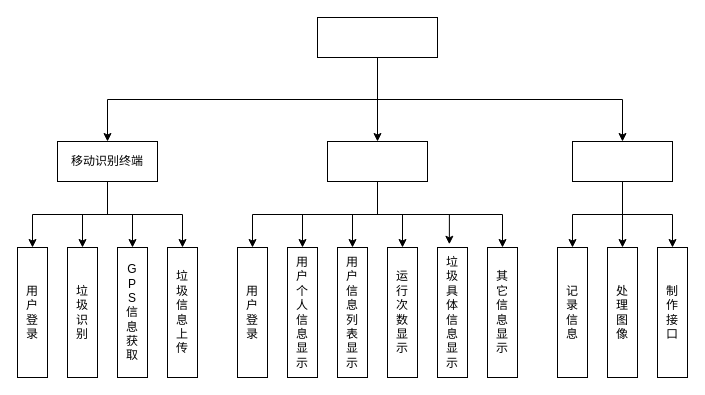
This 705x395 diagram has some shape labels left out. Each missing label, with the centre of its shape:
"垃圾识别装置系统" belongs at [377,37].
"客户端" belongs at [377,161].
"服务器端" belongs at [622,161].
